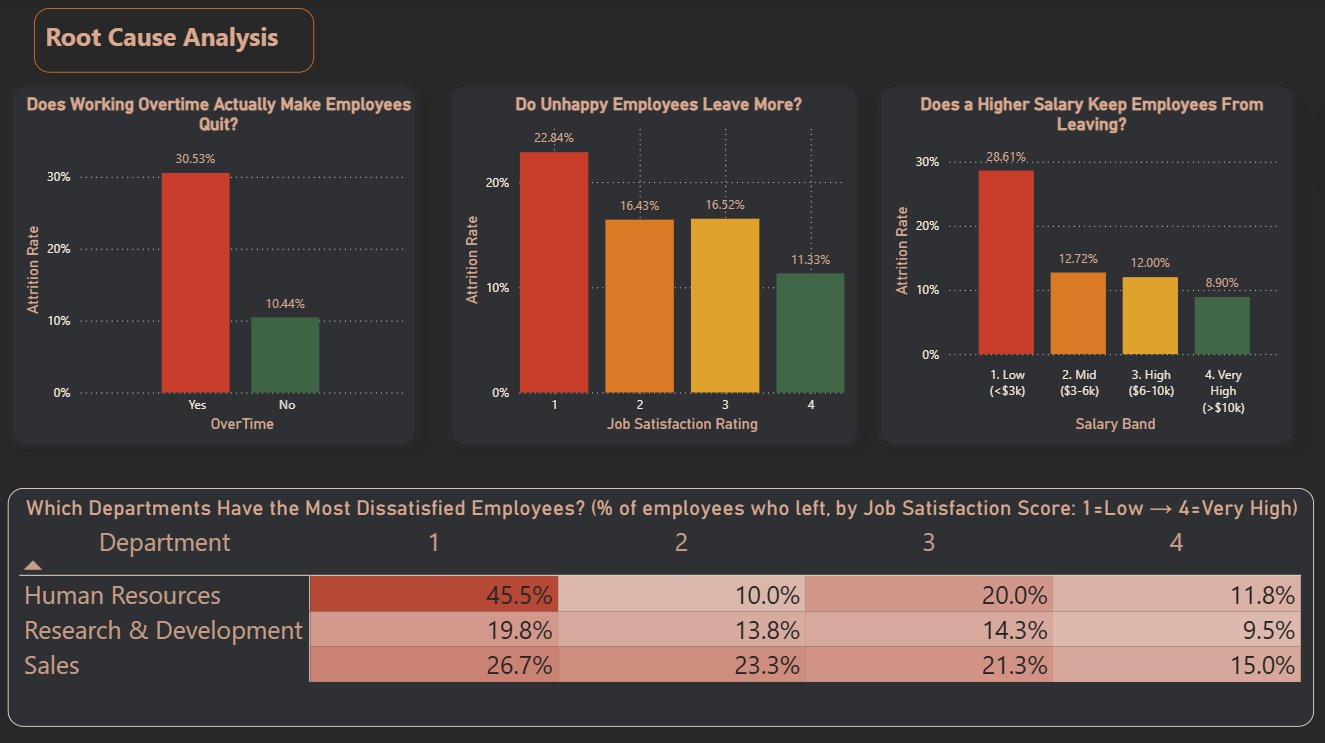

What the dashboard file says about the page in this screenshot:
{"tool":"powerbi","page":{"name":"Root Cause Analysis","canvas":[1280,720],"ordinal":2},"visuals":[{"type":"clusteredColumnChart","title":"Does Working Overtime Actually Make Employees Quit?","fields":{"Category":["HR-Employee-Attrition.OverTime"],"Y":["HR-Employee-Attrition.Attrition Rate"]},"box":[8.4,91.7,415,381.2],"z":0},{"type":"textbox","box":[38.6,12.9,326.8,66.9],"z":1000},{"type":"clusteredColumnChart","title":"Do Unhappy Employees Leave More?","fields":{"Category":["HR-Employee-Attrition.JobSatisfaction"],"Y":["HR-Employee-Attrition.Attrition Rate"]},"box":[432.3,90.1,414.3,382.1],"z":2000},{"type":"clusteredColumnChart","title":"Does a Higher Salary Keep Employees From Leaving?","fields":{"Y":["HR-Employee-Attrition.Attrition Rate"],"Category":["main.SalaryBand"]},"box":[846.6,90.1,414.3,382.1],"z":3000},{"type":"pivotTable","fields":{"Rows":["main.Department"],"Columns":["main.JobSatisfaction"],"Values":["main.Attrition Rate"]},"box":[9,482.5,1261,198.2],"z":4000}]}

Visuals, with their boxes in screenshot pixels (x1, y1, x2, y2), scaled from the page's 1280x720 canvas onto the 1325x743 screenshot:
"Does Working Overtime Actually Make Employees Quit?" clusteredColumnChart: left=9, top=95, right=438, bottom=488
textbox: left=40, top=13, right=378, bottom=82
"Do Unhappy Employees Leave More?" clusteredColumnChart: left=447, top=93, right=876, bottom=487
"Does a Higher Salary Keep Employees From Leaving?" clusteredColumnChart: left=876, top=93, right=1305, bottom=487
pivotTable - main.Department x main.JobSatisfaction: left=9, top=498, right=1315, bottom=702
